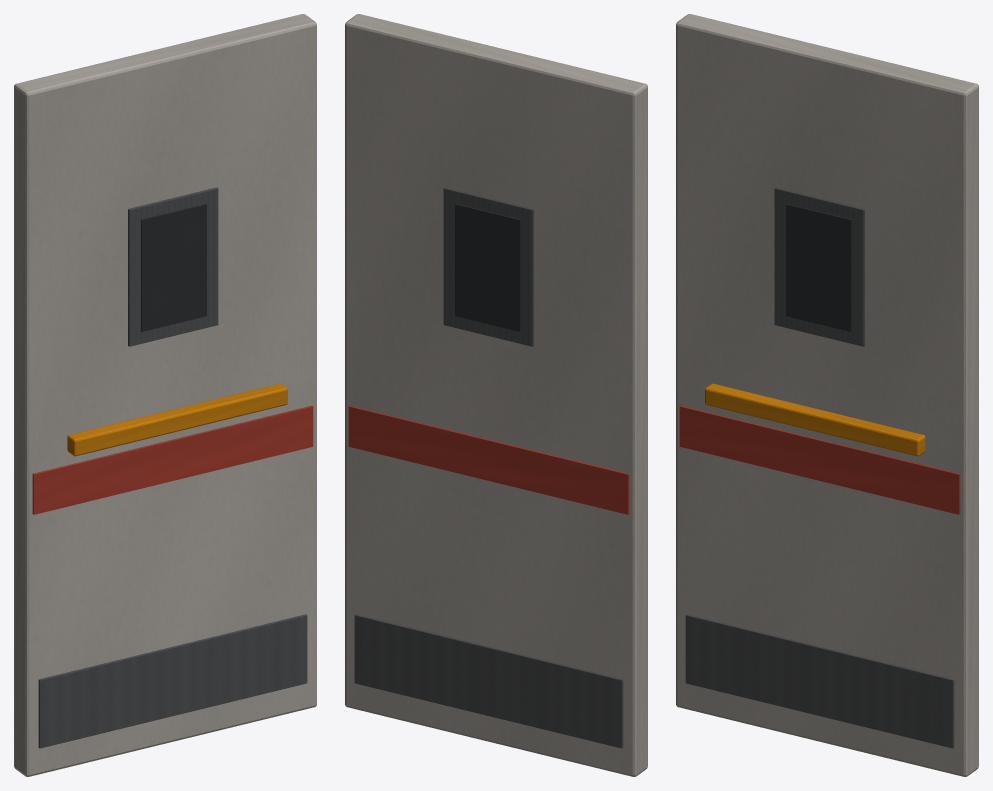
File: emergency_door.glb
The picture shows the model from 3 angles, left to right: view 1: azimuth 30°, elevation 25°; view 2: azimuth 150°, elevation 25°; view 3: azimuth 330°, elevation 25°; orthographic projection.
Visible parts, largest first — view 1: door_leaf.008, kick_plate.012, red_stripe.014, window_inset.008, window_bezel.008, panic_bar; view 2: door_leaf.008, kick_plate.013, red_stripe.015, window_inset.009, window_bezel.009; view 3: door_leaf.008, kick_plate.012, red_stripe.014, window_inset.008, window_bezel.008, panic_bar.
Boxes of the visible parts, box(x1,y1,x2,y2) form: door_leaf.008: box(14, 14, 316, 776); kick_plate.012: box(38, 614, 307, 748); red_stripe.014: box(32, 405, 313, 514); window_inset.008: box(141, 203, 206, 331); window_bezel.008: box(128, 187, 218, 346); panic_bar: box(67, 383, 287, 456); door_leaf.008: box(345, 14, 647, 776); kick_plate.013: box(354, 614, 623, 748); red_stripe.015: box(348, 405, 629, 514); window_inset.009: box(455, 203, 520, 331); window_bezel.009: box(443, 187, 533, 346); door_leaf.008: box(676, 14, 978, 776); kick_plate.012: box(685, 614, 954, 748); red_stripe.014: box(679, 405, 960, 514); window_inset.008: box(786, 203, 851, 331); window_bezel.008: box(774, 187, 864, 346); panic_bar: box(705, 383, 925, 456).
Bounding box in the file's own units: 0.98 × 2.2 × 0.146.
Materials: 5 (5 with a texture image).
